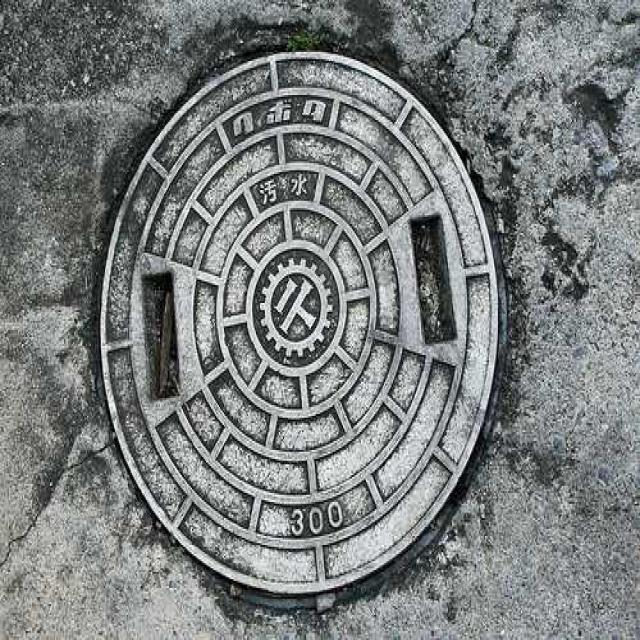manhole: (100, 53, 499, 594)
